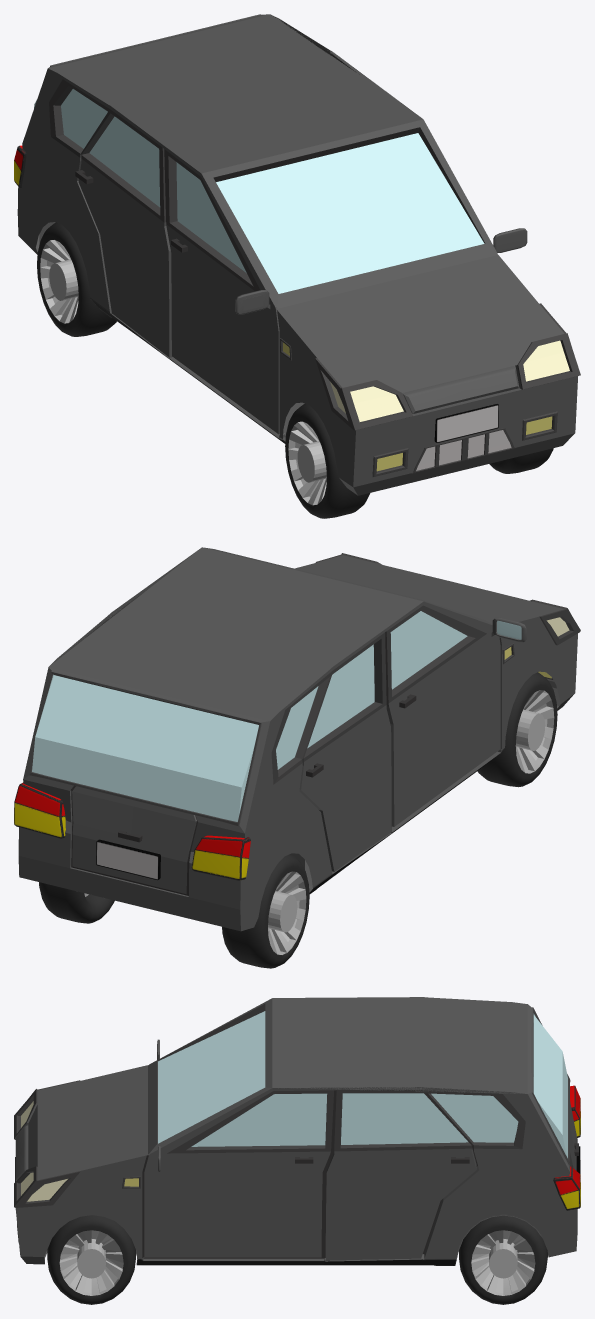
Rendered from JPLuxModel.fbx.
The picture shows the model from 3 angles, top to bottom: view 1: azimuth 30°, elevation 25°; view 2: azimuth 150°, elevation 25°; view 3: azimuth 270°, elevation 25°; orthographic projection. The views are drawn at different scales.
Parts seen in each view (by area): view 1: pasted__car_pCube40, pasted__wheel3, pasted__wheel4, pasted__Liscense_Plate2, pasted__wheel1; view 2: pasted__car_pCube40, pasted__wheel4, pasted__wheel3, TailLight_R1, TailLight_L2, pasted__wheel2, pasted__Liscense_Plate3; view 3: pasted__car_pCube40, pasted__wheel1, pasted__wheel2, TailLight_L2, TailLight_R1.
Part boxes in pixels (bbox=[...]): pasted__car_pCube40: bbox=[17, 14, 580, 495]; pasted__wheel3: bbox=[285, 404, 370, 518]; pasted__wheel4: bbox=[37, 222, 116, 336]; pasted__Liscense_Plate2: bbox=[434, 404, 498, 442]; pasted__wheel1: bbox=[489, 448, 553, 473]; pasted__car_pCube40: bbox=[18, 547, 580, 931]; pasted__wheel4: bbox=[222, 854, 309, 968]; pasted__wheel3: bbox=[477, 672, 557, 787]; TailLight_R1: bbox=[191, 835, 250, 880]; TailLight_L2: bbox=[14, 782, 65, 838]; pasted__wheel2: bbox=[39, 882, 114, 923]; pasted__Liscense_Plate3: bbox=[96, 839, 160, 880]; pasted__car_pCube40: bbox=[14, 997, 578, 1265]; pasted__wheel1: bbox=[47, 1215, 135, 1304]; pasted__wheel2: bbox=[459, 1215, 547, 1304]; TailLight_L2: bbox=[553, 1166, 580, 1210]; TailLight_R1: bbox=[570, 1085, 580, 1137].
Bounding box in the file's own units: 3.25 × 2.83 × 6.58.
Materials: 4 (4 with a texture image).
